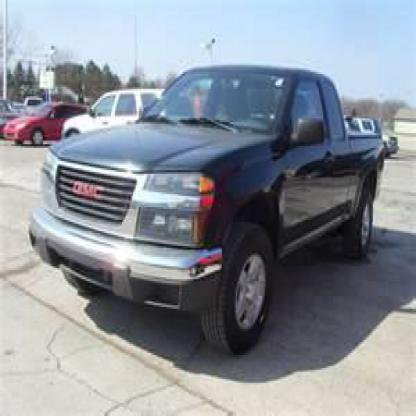car: (29, 64, 387, 361)
